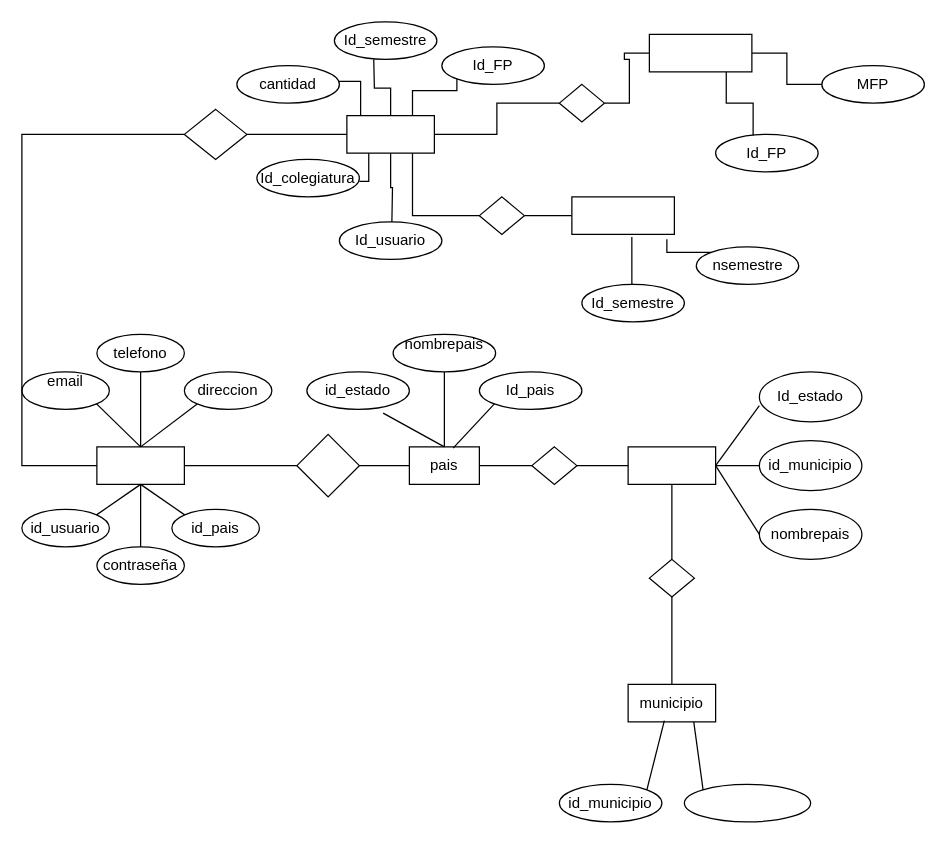
Image size: 946x844. Some labels were removed from this diagram. Here are the shapes that lost their labels. From the top down, the box of each, then its label:
(648, 33, 752, 72): F pago
(346, 114, 434, 153): colegiatura
(571, 196, 674, 234): Semestre
(96, 446, 184, 484): usuario
(296, 433, 359, 497): tiene
(627, 446, 716, 484): estado
(683, 783, 811, 822): nombremunicipio
